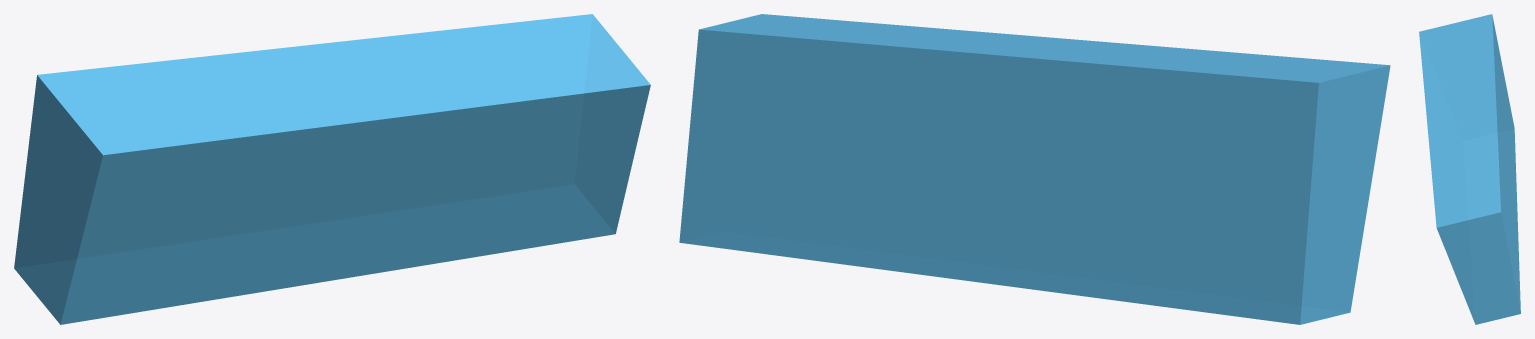
The model's file is Event_420604493_HErechit_52.fbx.
The picture shows the model from 3 angles, left to right: view 1: azimuth 30°, elevation 25°; view 2: azimuth 150°, elevation 25°; view 3: azimuth 270°, elevation 25°; orthographic projection. The views are drawn at different scales.
Visible parts, largest first — view 1: Model; view 2: Model; view 3: Model.
Part boxes in pixels (x1=…): Model: x1=14, y1=14, x2=650, y2=324; Model: x1=679, y1=14, x2=1390, y2=324; Model: x1=1419, y1=14, x2=1520, y2=324.
Bounding box in the file's own units: 1.49 × 0.7172 × 0.418.
